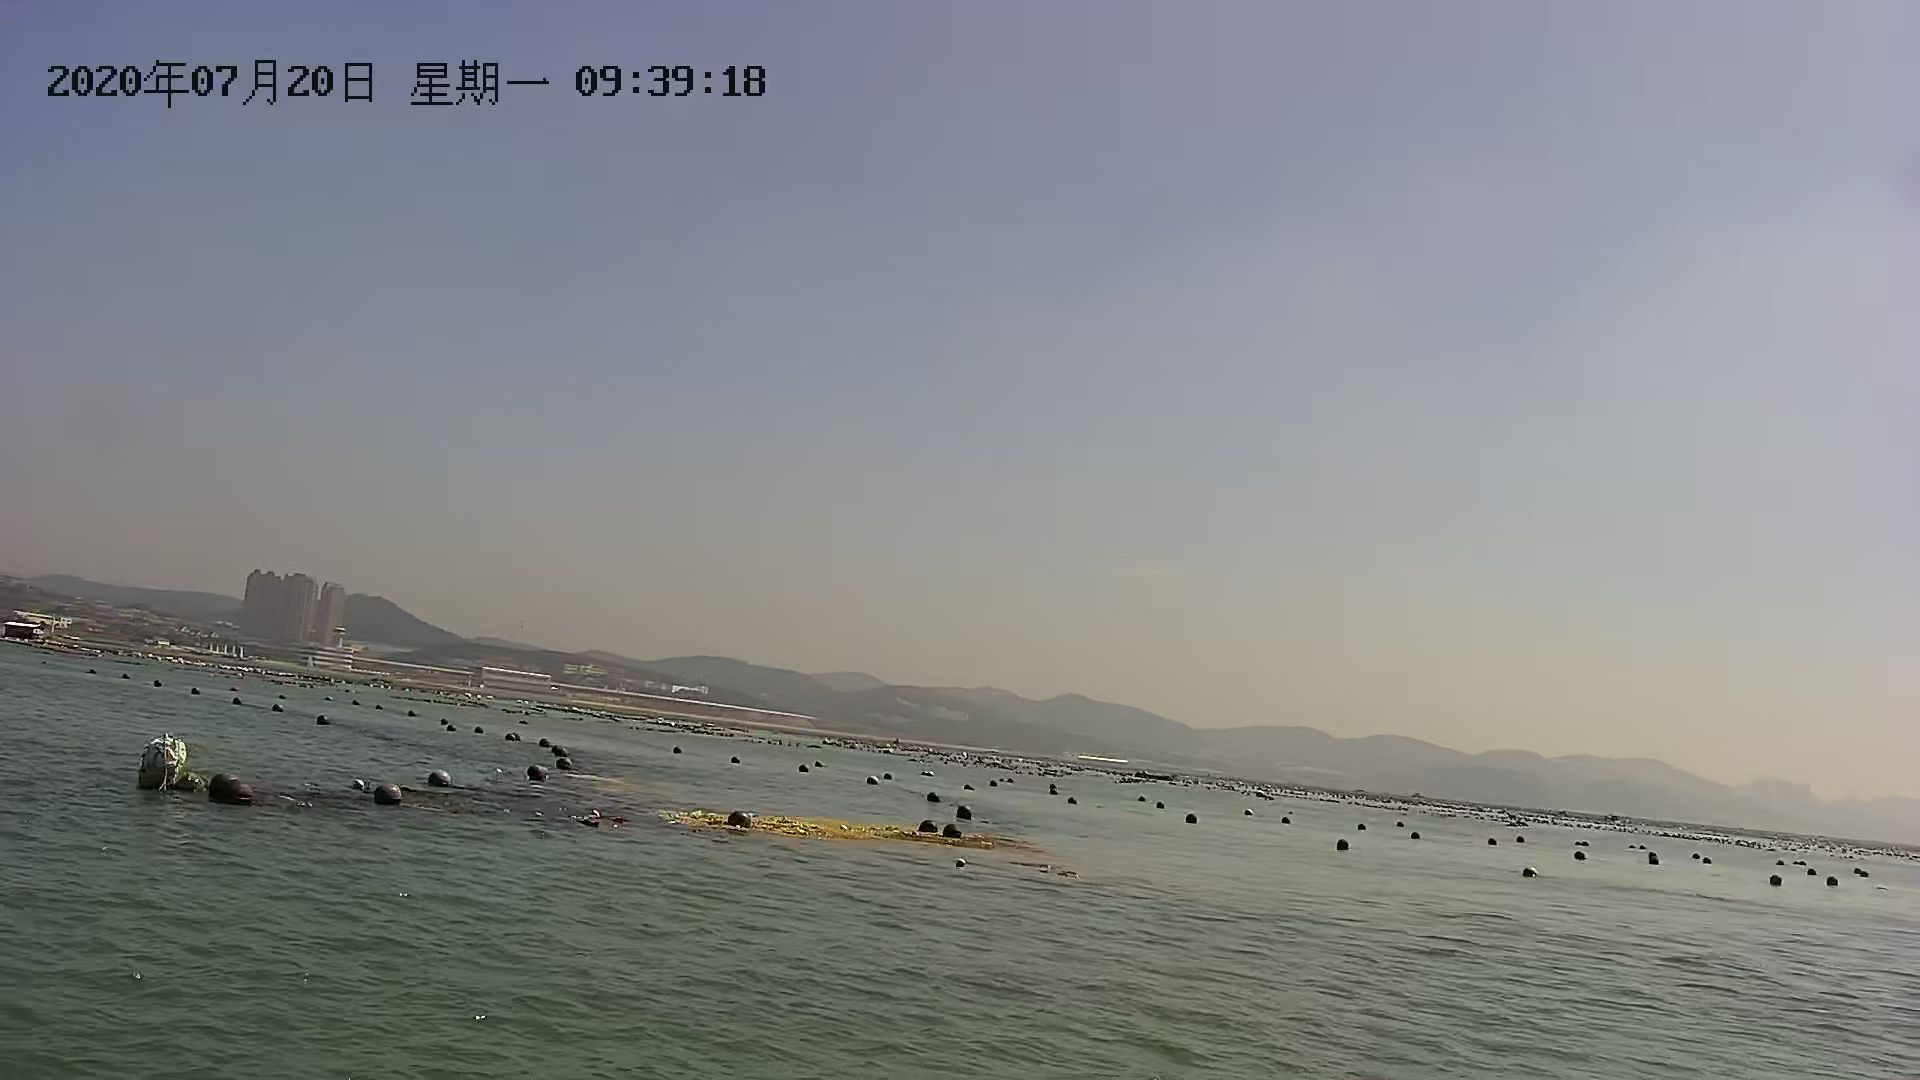ball: (539, 742, 580, 774), (373, 778, 402, 814), (425, 767, 454, 793), (949, 800, 977, 823), (725, 811, 753, 829), (534, 769, 560, 787), (1648, 844, 1668, 868), (310, 711, 335, 729), (868, 771, 899, 785), (916, 820, 938, 837), (1824, 872, 1845, 887), (1182, 810, 1204, 823), (1772, 876, 1788, 887), (502, 731, 521, 740), (1520, 870, 1542, 877), (1340, 837, 1349, 849)
rubbish: (140, 738, 249, 804)
